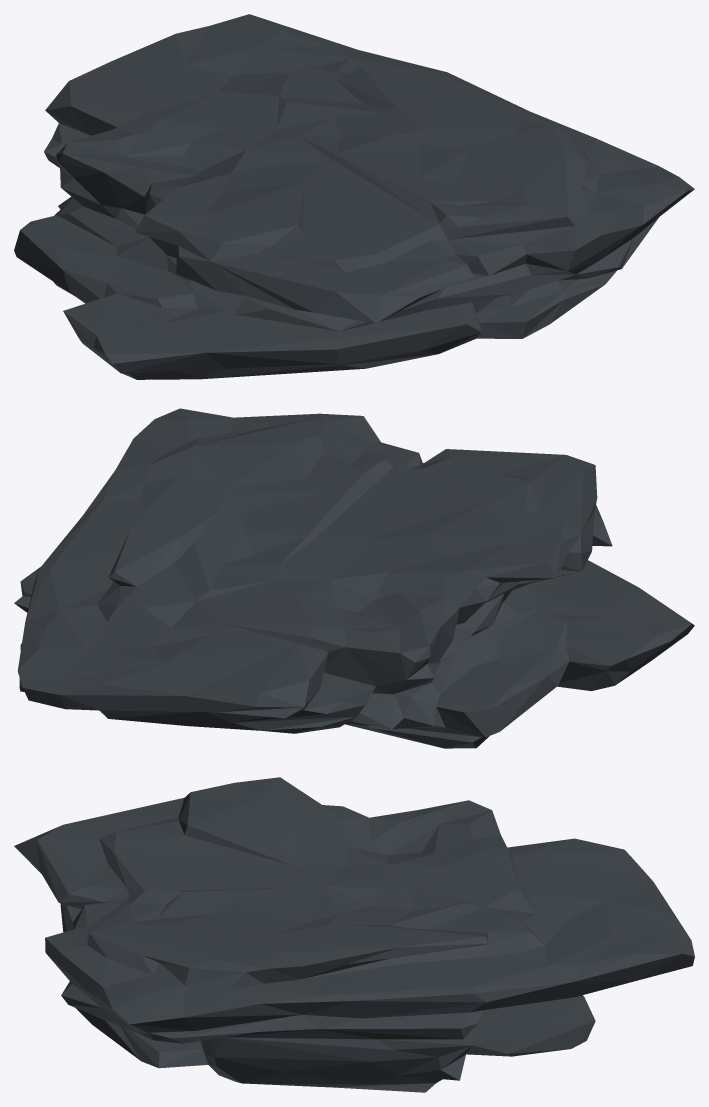
File: MDungeon_CavernRock_Flat_01.FBX
3 views of the same model, one above another, from view 1: azimuth 30°, elevation 25°; view 2: azimuth 150°, elevation 25°; view 3: azimuth 270°, elevation 25° (orthographic). The views are drawn at different scales.
Parts seen in each view (by area): view 1: MDungeon_CavernRock_Flat_01_LOD0; view 2: MDungeon_CavernRock_Flat_01_LOD0; view 3: MDungeon_CavernRock_Flat_01_LOD0.
Part boxes in pixels (x1=…): MDungeon_CavernRock_Flat_01_LOD0: x1=14, y1=14, x2=694, y2=379; MDungeon_CavernRock_Flat_01_LOD0: x1=14, y1=408, x2=694, y2=748; MDungeon_CavernRock_Flat_01_LOD0: x1=14, y1=777, x2=694, y2=1092.
Size of what is drawn, in the model's own units: 28.58 by 6.68 by 31.54.
